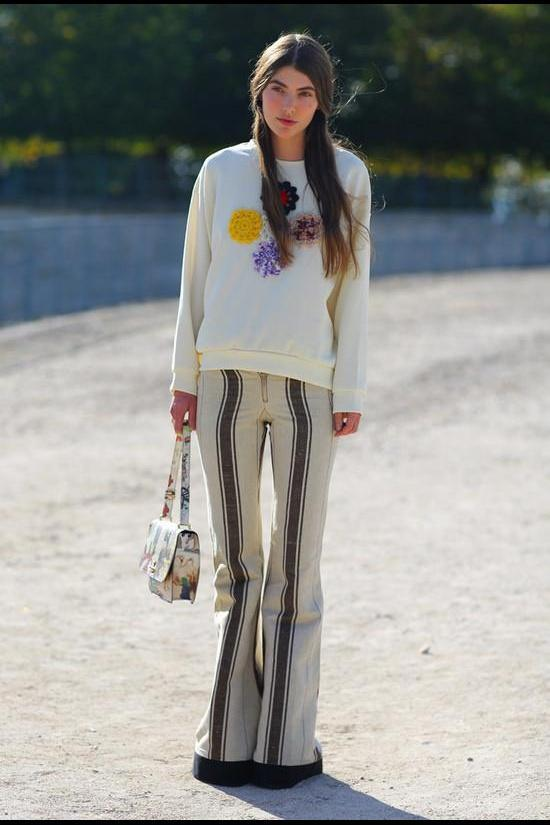Tshirt: (169, 137, 371, 414)
pants: (196, 348, 338, 764)
